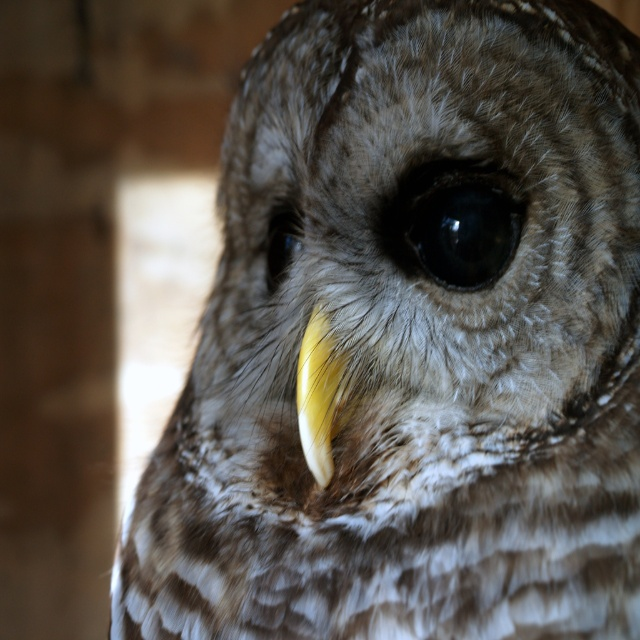Owl: (91, 0, 640, 640)
